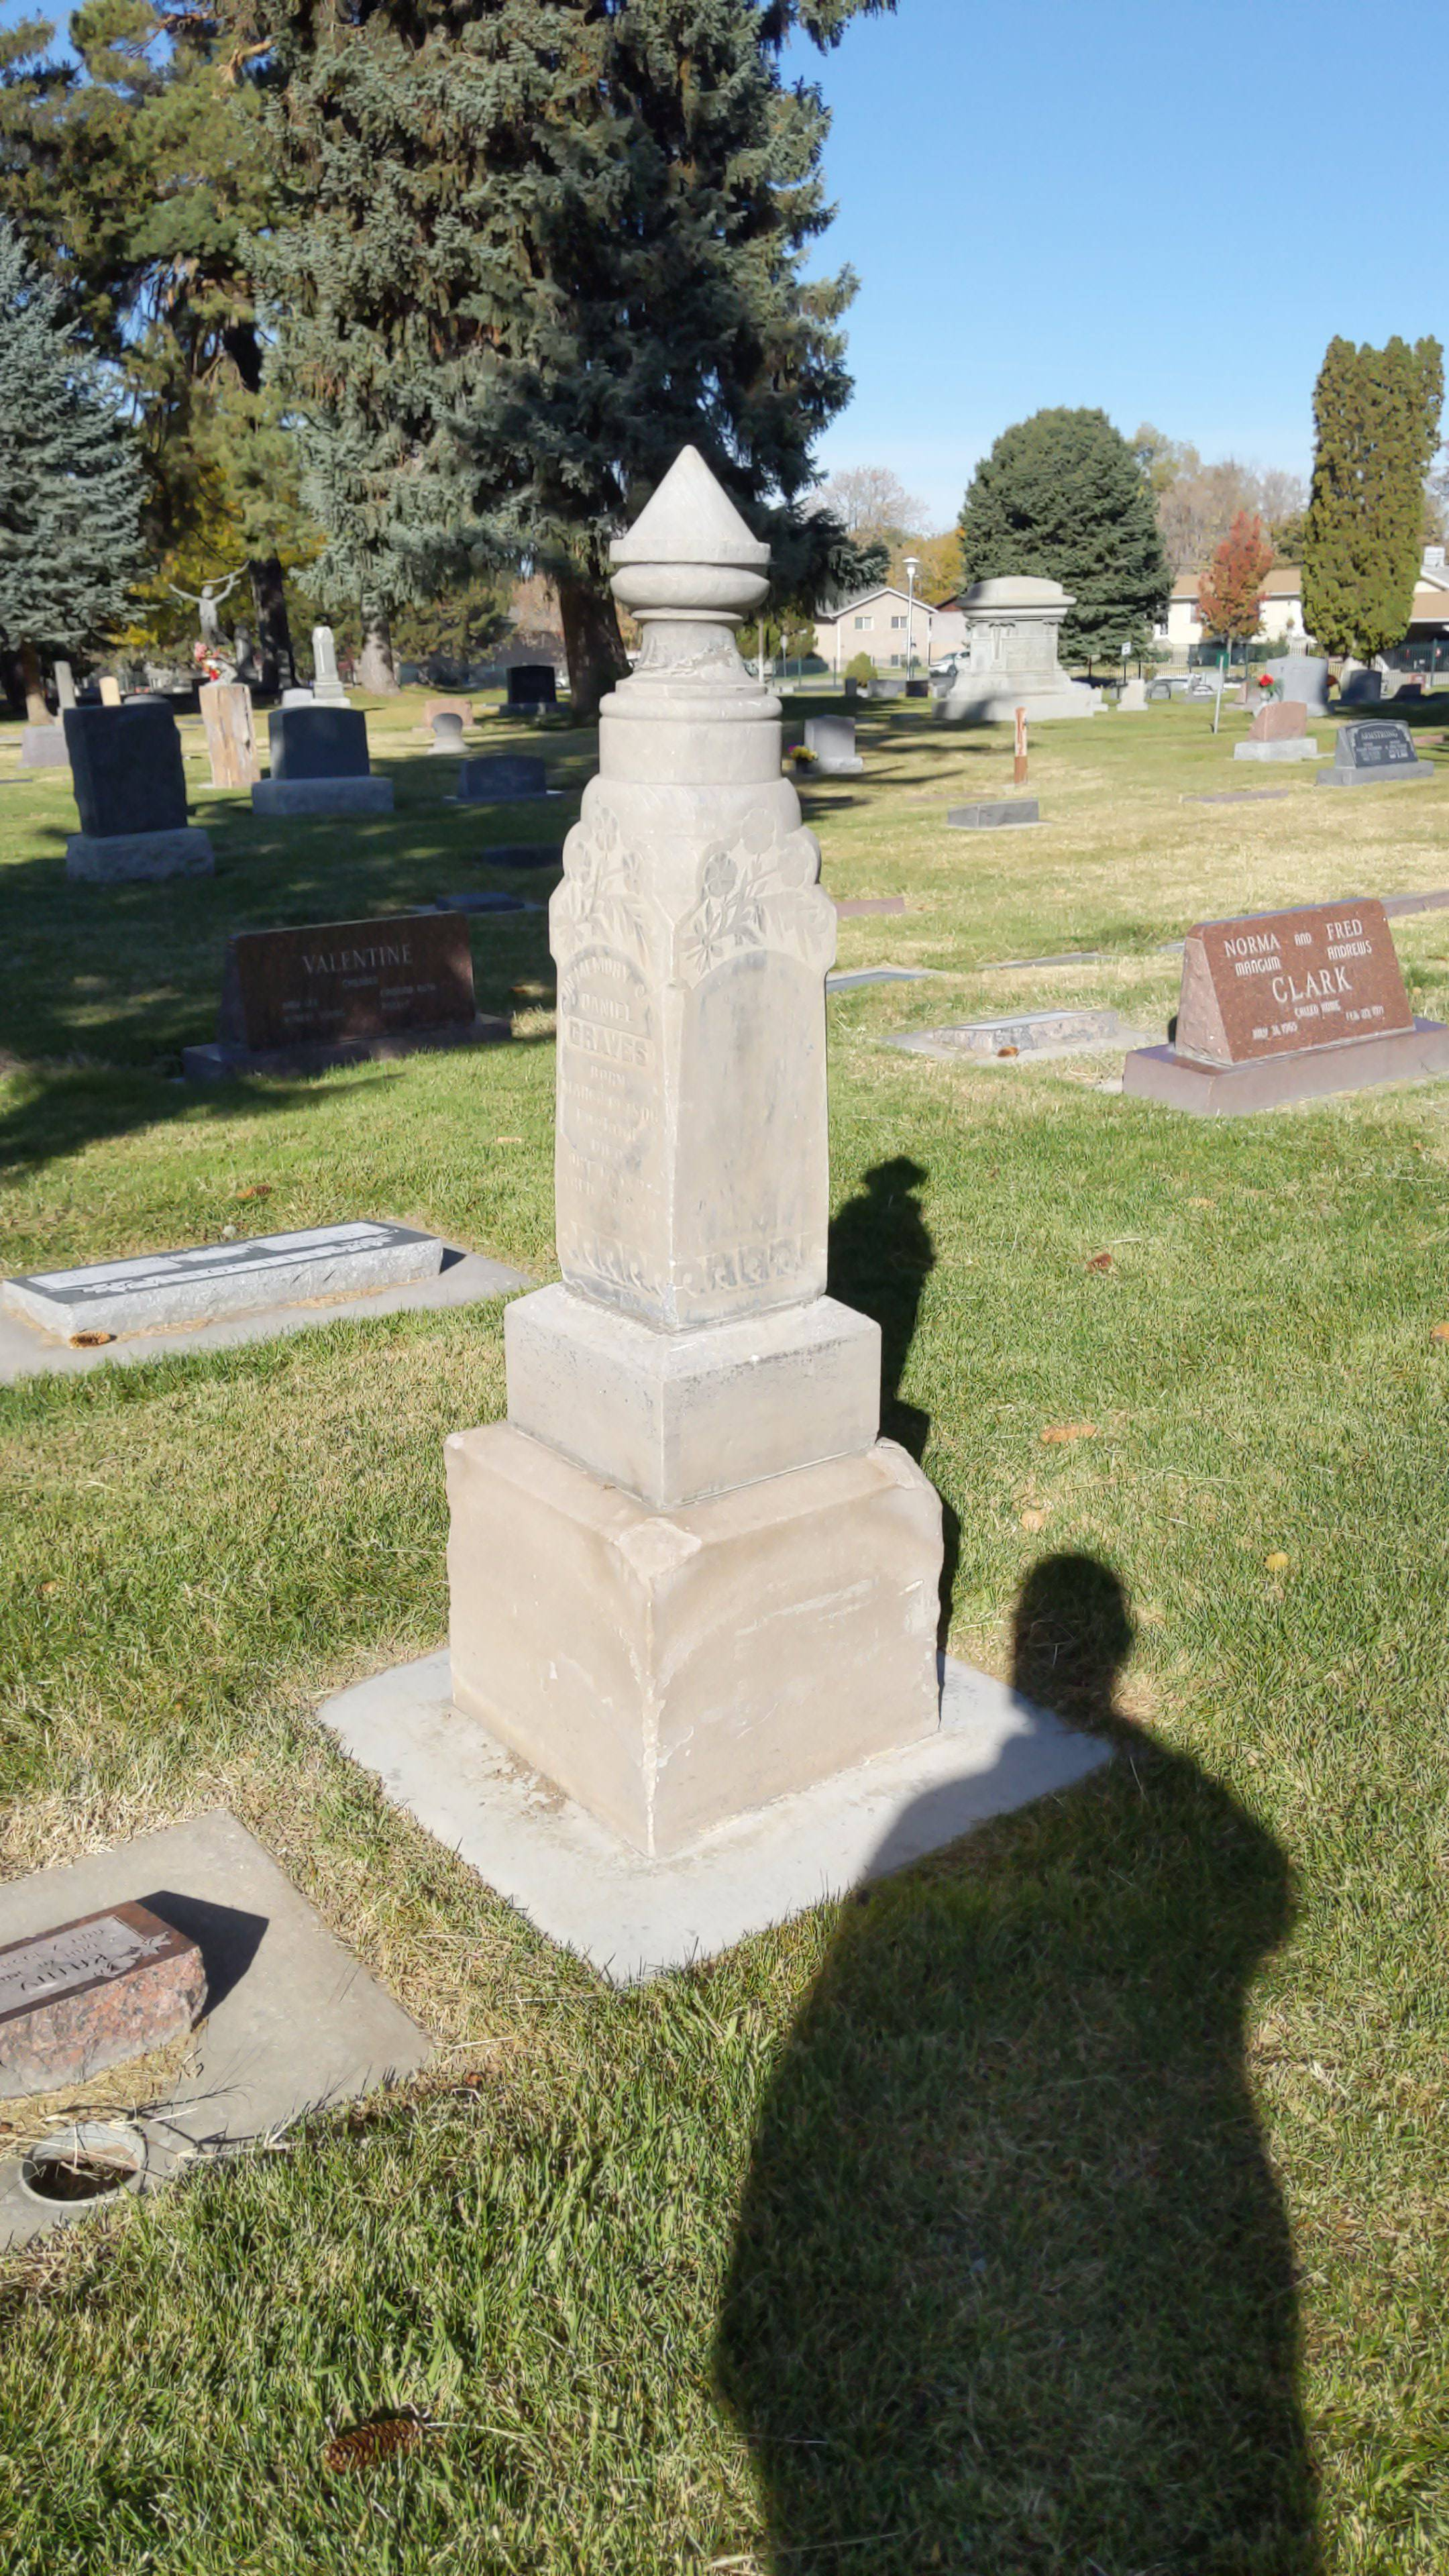obelisk: (501, 441, 881, 1502)
